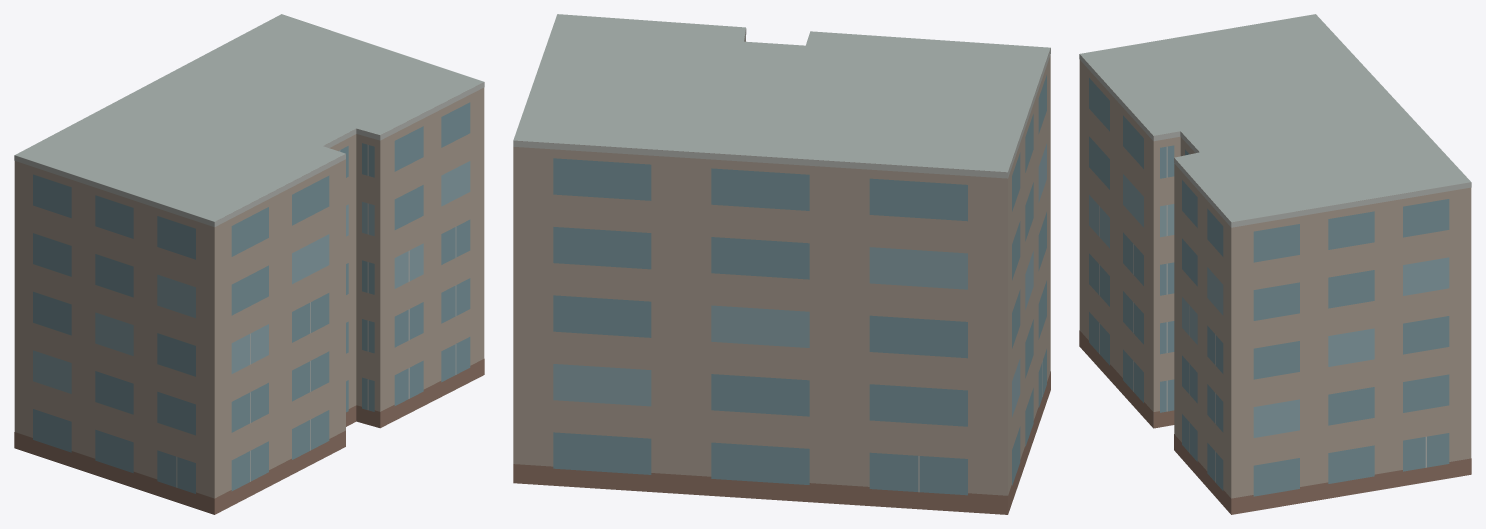
File: survey-upis-32983609.glb
The picture shows the model from 3 angles, left to right: view 1: azimuth 30°, elevation 25°; view 2: azimuth 150°, elevation 25°; view 3: azimuth 270°, elevation 25°; orthographic projection. The views are drawn at different scales.
Visible parts, largest first — view 1: survey-upis-32983609.tmp; view 2: survey-upis-32983609.tmp; view 3: survey-upis-32983609.tmp.
Part boxes in pixels (x1,y1,x2,y2): survey-upis-32983609.tmp: [14, 14, 484, 514]; survey-upis-32983609.tmp: [513, 14, 1050, 514]; survey-upis-32983609.tmp: [1079, 14, 1471, 514].
Bounding box in the file's own units: 20.33 × 13.3 × 16.16.
